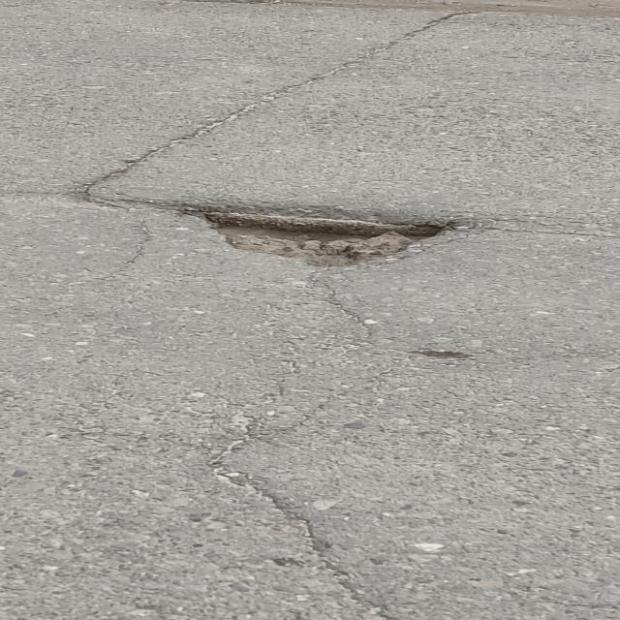lubang: (184, 205, 460, 265)
